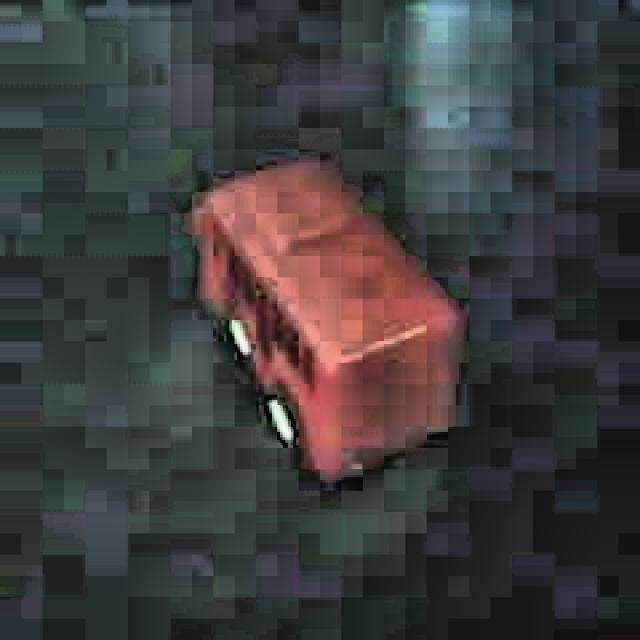bus: (187, 145, 461, 488)
